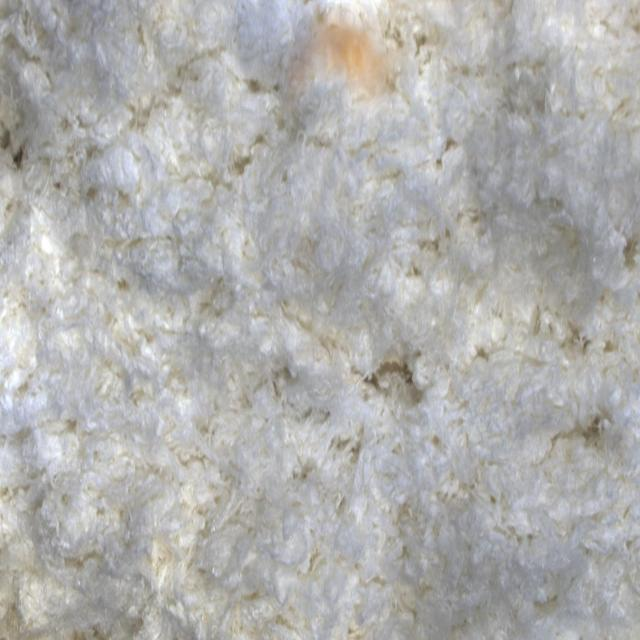dust: (282, 3, 409, 126)
